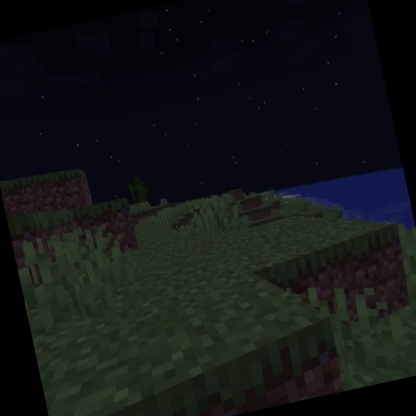spider: (114, 187, 289, 357)
